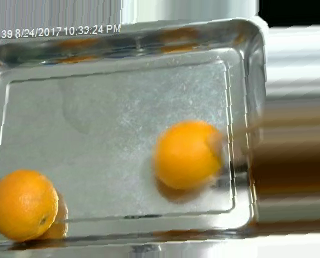Orange: (153, 117, 223, 192), (0, 170, 59, 241)
